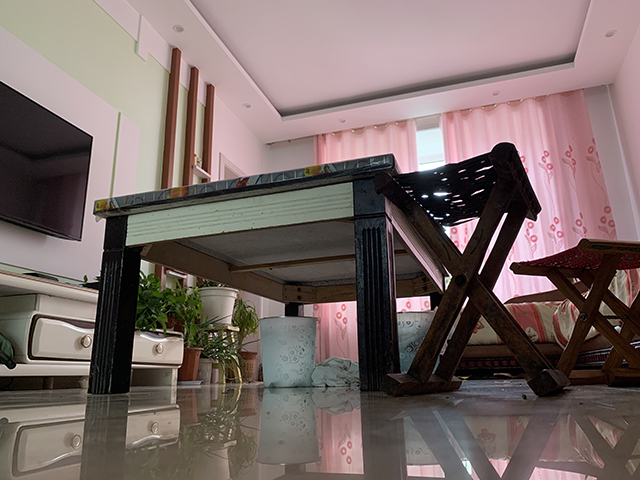cabinet: (1, 262, 184, 387)
stool: (373, 141, 571, 400), (509, 235, 640, 386)
table: (87, 152, 450, 396)
trashcan: (256, 314, 316, 388), (397, 310, 440, 375)
